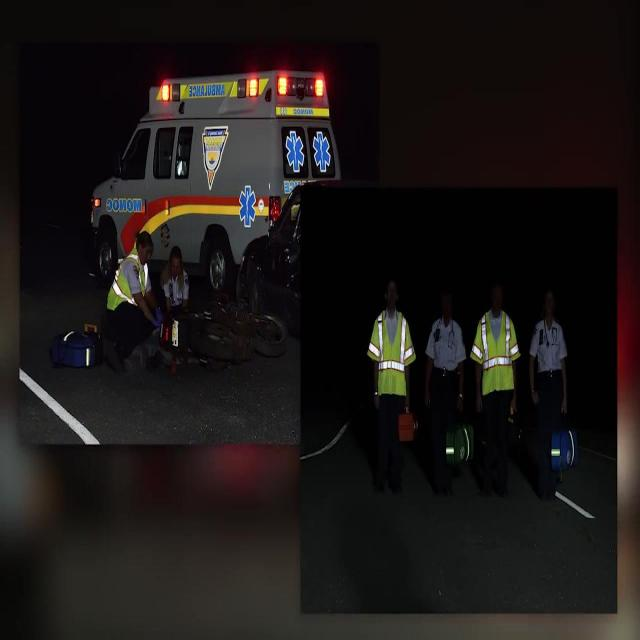Reflective-Jacket: (466, 305, 526, 411), (364, 306, 420, 412), (107, 248, 151, 309)
